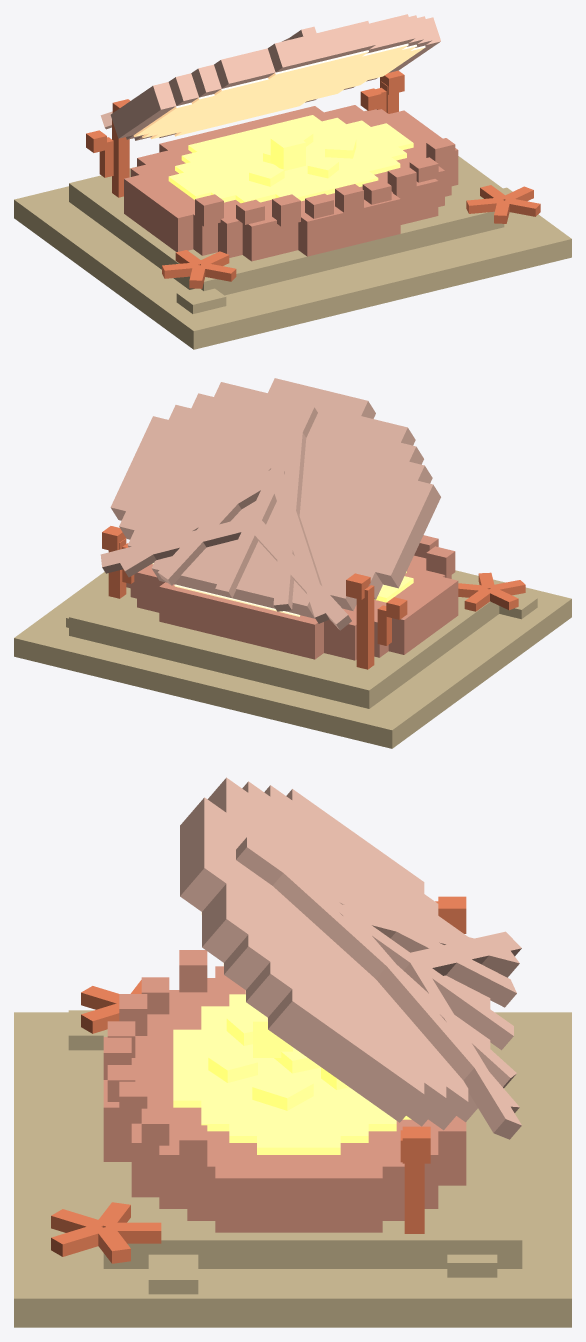
File: reef_cache.glb
The picture shows the model from 3 angles, top to bottom: view 1: azimuth 30°, elevation 25°; view 2: azimuth 150°, elevation 25°; view 3: azimuth 270°, elevation 25°; orthographic projection. The views are drawn at different scales.
Visible parts, largest first — view 1: CACHE_REEF_Main, CACHE_REEF_Accent, CACHE_REEF_Glow, CACHE_REEF_Lid, CACHE_REEF_LidInner, CACHE_REEF_Trim; view 2: CACHE_REEF_Lid, CACHE_REEF_Main, CACHE_REEF_Accent, CACHE_REEF_Trim; view 3: CACHE_REEF_Main, CACHE_REEF_Lid, CACHE_REEF_Accent, CACHE_REEF_Glow, CACHE_REEF_Trim.
Part boxes in pixels (x1,y1,x2,y2): CACHE_REEF_Main: (14, 110, 571, 349); CACHE_REEF_Accent: (124, 105, 458, 261); CACHE_REEF_Glow: (168, 115, 413, 203); CACHE_REEF_Lid: (100, 14, 440, 140); CACHE_REEF_LidInner: (133, 43, 425, 139); CACHE_REEF_Trim: (86, 70, 540, 288); CACHE_REEF_Lid: (100, 378, 440, 630); CACHE_REEF_Main: (14, 570, 571, 748); CACHE_REEF_Accent: (126, 535, 458, 660); CACHE_REEF_Trim: (102, 526, 525, 669); CACHE_REEF_Main: (14, 1010, 571, 1327); CACHE_REEF_Lid: (180, 777, 521, 1139); CACHE_REEF_Accent: (103, 950, 466, 1232); CACHE_REEF_Glow: (173, 994, 411, 1154); CACHE_REEF_Trim: (51, 896, 466, 1263).
Bounding box in the file's own units: 3.4 × 1.95 × 2.8.
